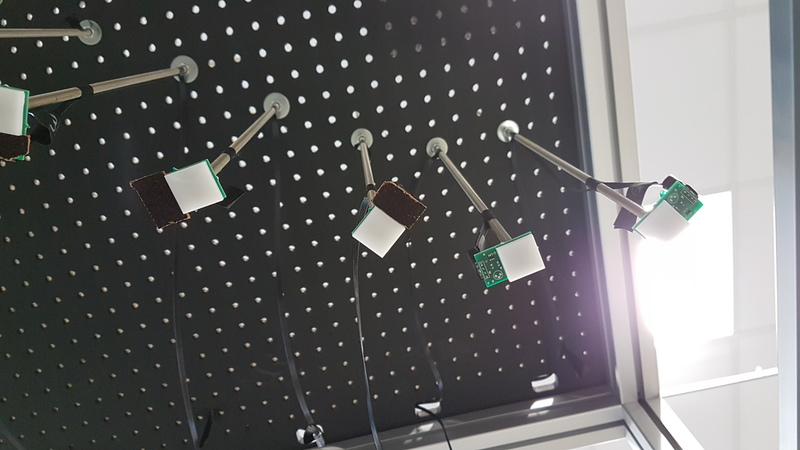target: (165, 157, 228, 217), (353, 201, 406, 258), (493, 229, 546, 284), (639, 198, 686, 247)
